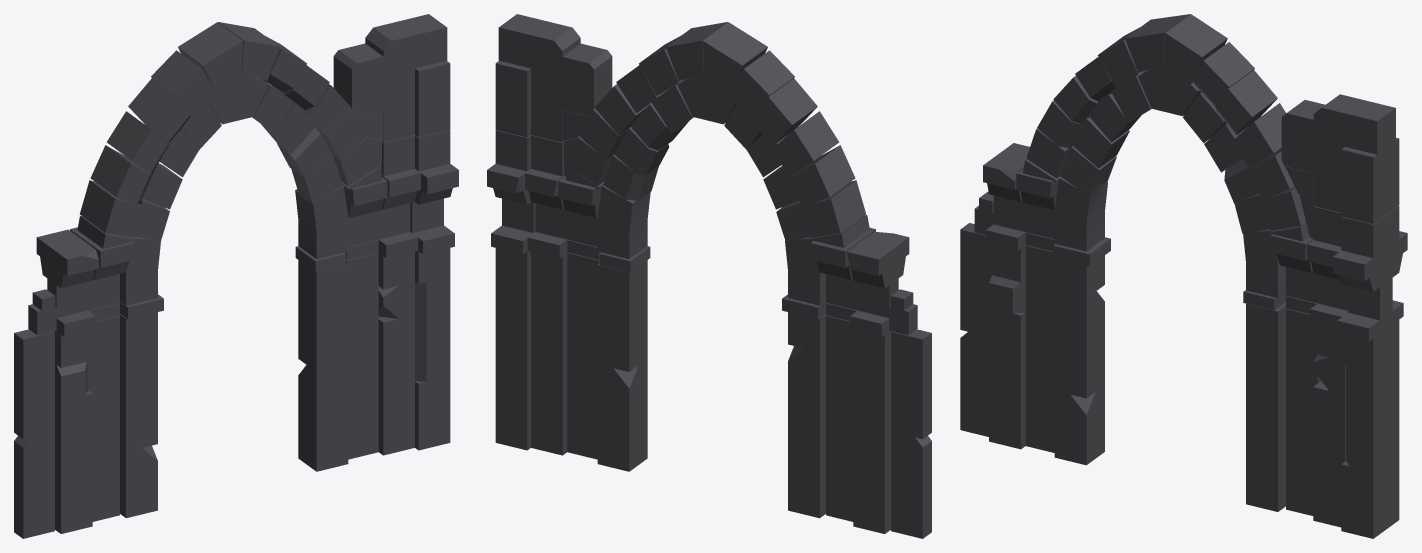
Rendered from f9b1b933-abb8-490b-ba40-40206ac1843f.glb.
3 views of the same model, side by side, from view 1: azimuth 30°, elevation 25°; view 2: azimuth 150°, elevation 25°; view 3: azimuth 330°, elevation 25° (orthographic).
Parts seen in each view (by area): view 1: Archway1; view 2: Archway1; view 3: Archway1.
Boxes of the visible parts, <box> form: Archway1: <box>14,14,458,538</box>; Archway1: <box>487,14,931,538</box>; Archway1: <box>960,14,1407,538</box>.
Bounding box in the file's own units: 1321 × 1362 × 233.
1 material, 1 textured.
